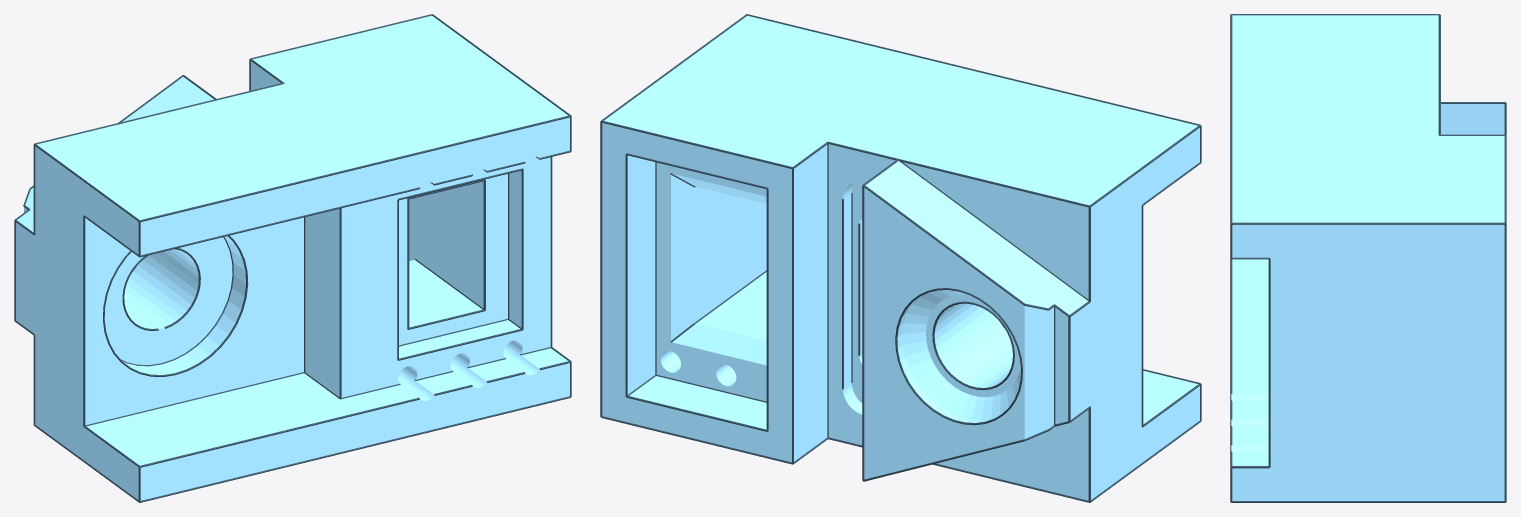
The model's file is model_full_cad_clear.glb.
3 views of the same model, side by side, from view 1: azimuth 30°, elevation 25°; view 2: azimuth 150°, elevation 25°; view 3: azimuth 270°, elevation 25° (orthographic). The views are drawn at different scales.
Visible parts, largest first — view 1: model_full.stl, navy_edges_high_contrast; view 2: model_full.stl, navy_edges_high_contrast; view 3: model_full.stl, navy_edges_high_contrast.
Part boxes in pixels (bbox=[...]): model_full.stl: bbox=[16, 15, 569, 500]; navy_edges_high_contrast: bbox=[14, 14, 571, 502]; model_full.stl: bbox=[602, 15, 1199, 500]; navy_edges_high_contrast: bbox=[600, 14, 1201, 502]; model_full.stl: bbox=[1231, 15, 1504, 500]; navy_edges_high_contrast: bbox=[1230, 14, 1506, 502].
Size of the model in its own units: 90.38 by 56.33 by 50.38.
